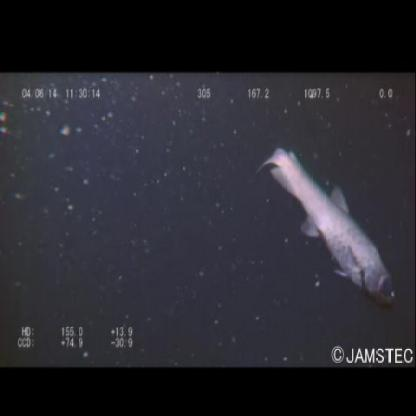Bio: (255, 142, 401, 312)
